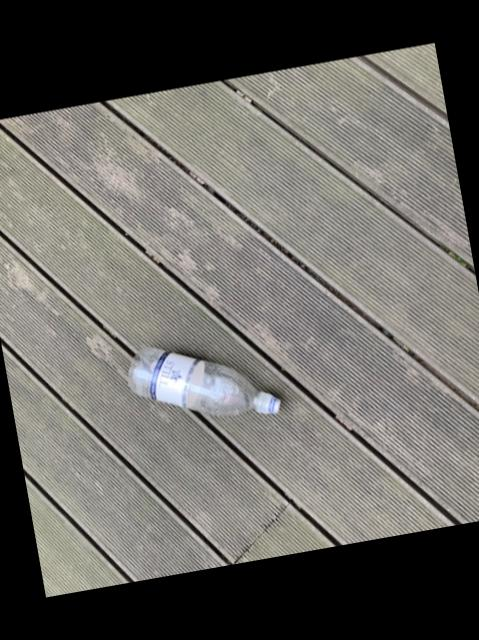plastic: (126, 349, 278, 417)
